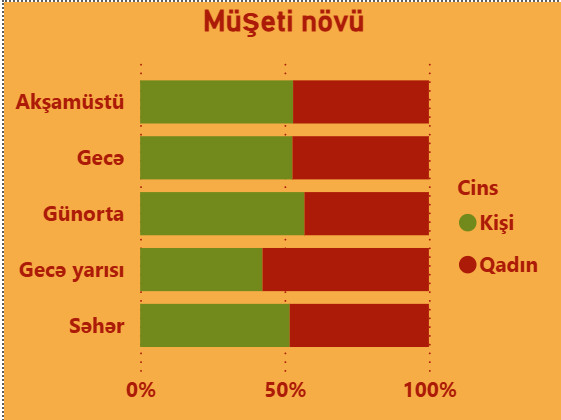

This screenshot's page, from the dashboard's own definition file:
{"tool":"powerbi","page":{"name":"tooltipe2","canvas":[320,240],"ordinal":3},"visuals":[{"type":"hundredPercentStackedBarChart","title":"Müşeti növü","fields":{"Category":["Balaji Fast Food Sales (1).time_of_sale"],"Y":["CountNonNull(Balaji Fast Food Sales (1).received_by)"],"Series":["Balaji Fast Food Sales (1).received_by"]},"box":[0,0,320,240],"z":0}]}

Visuals, with their boxes in screenshot pixels (x1, y1, x2, y2), scaled from the page's 320x240 canvas onto the 561x420 screenshot:
"Müşeti növü" hundredPercentStackedBarChart: {"left": 0, "top": 0, "right": 560, "bottom": 419}
